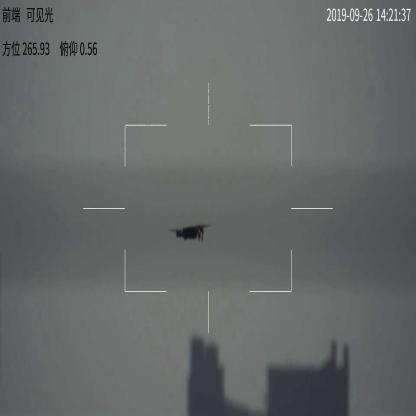uav: (170, 220, 209, 244)
